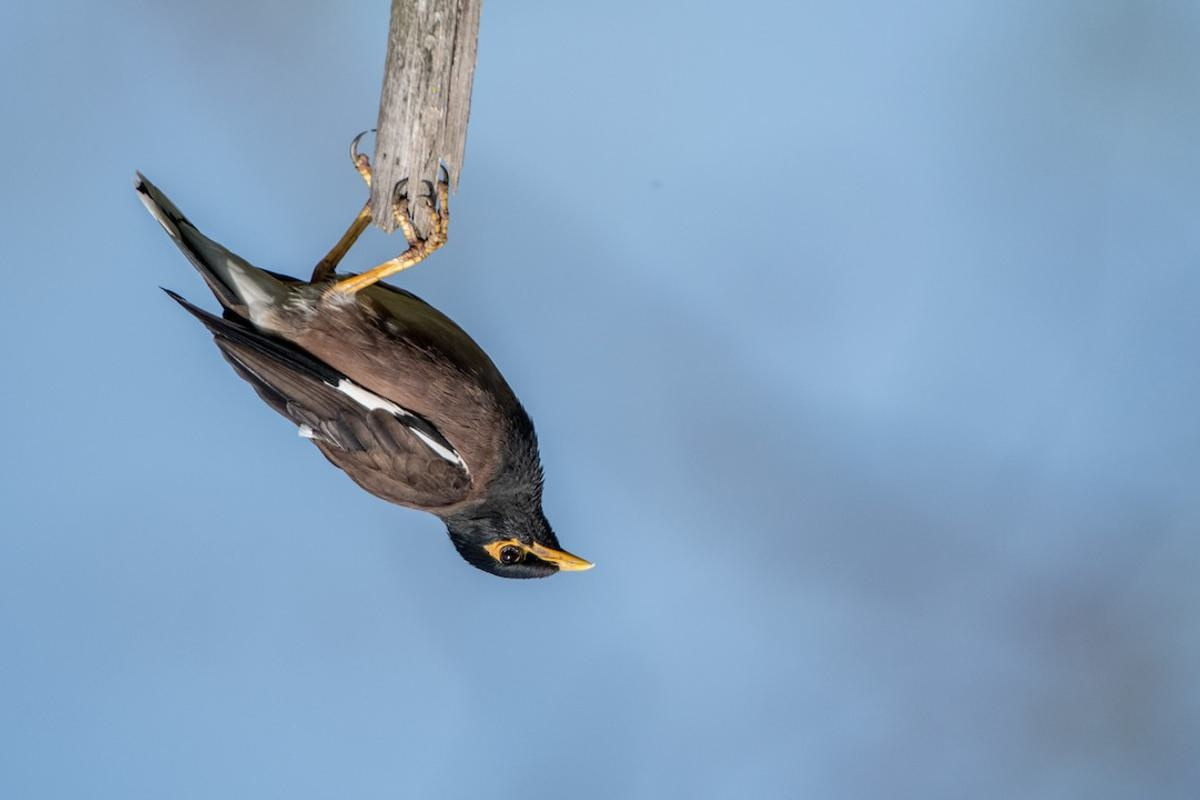myna: (87, 120, 627, 604)
